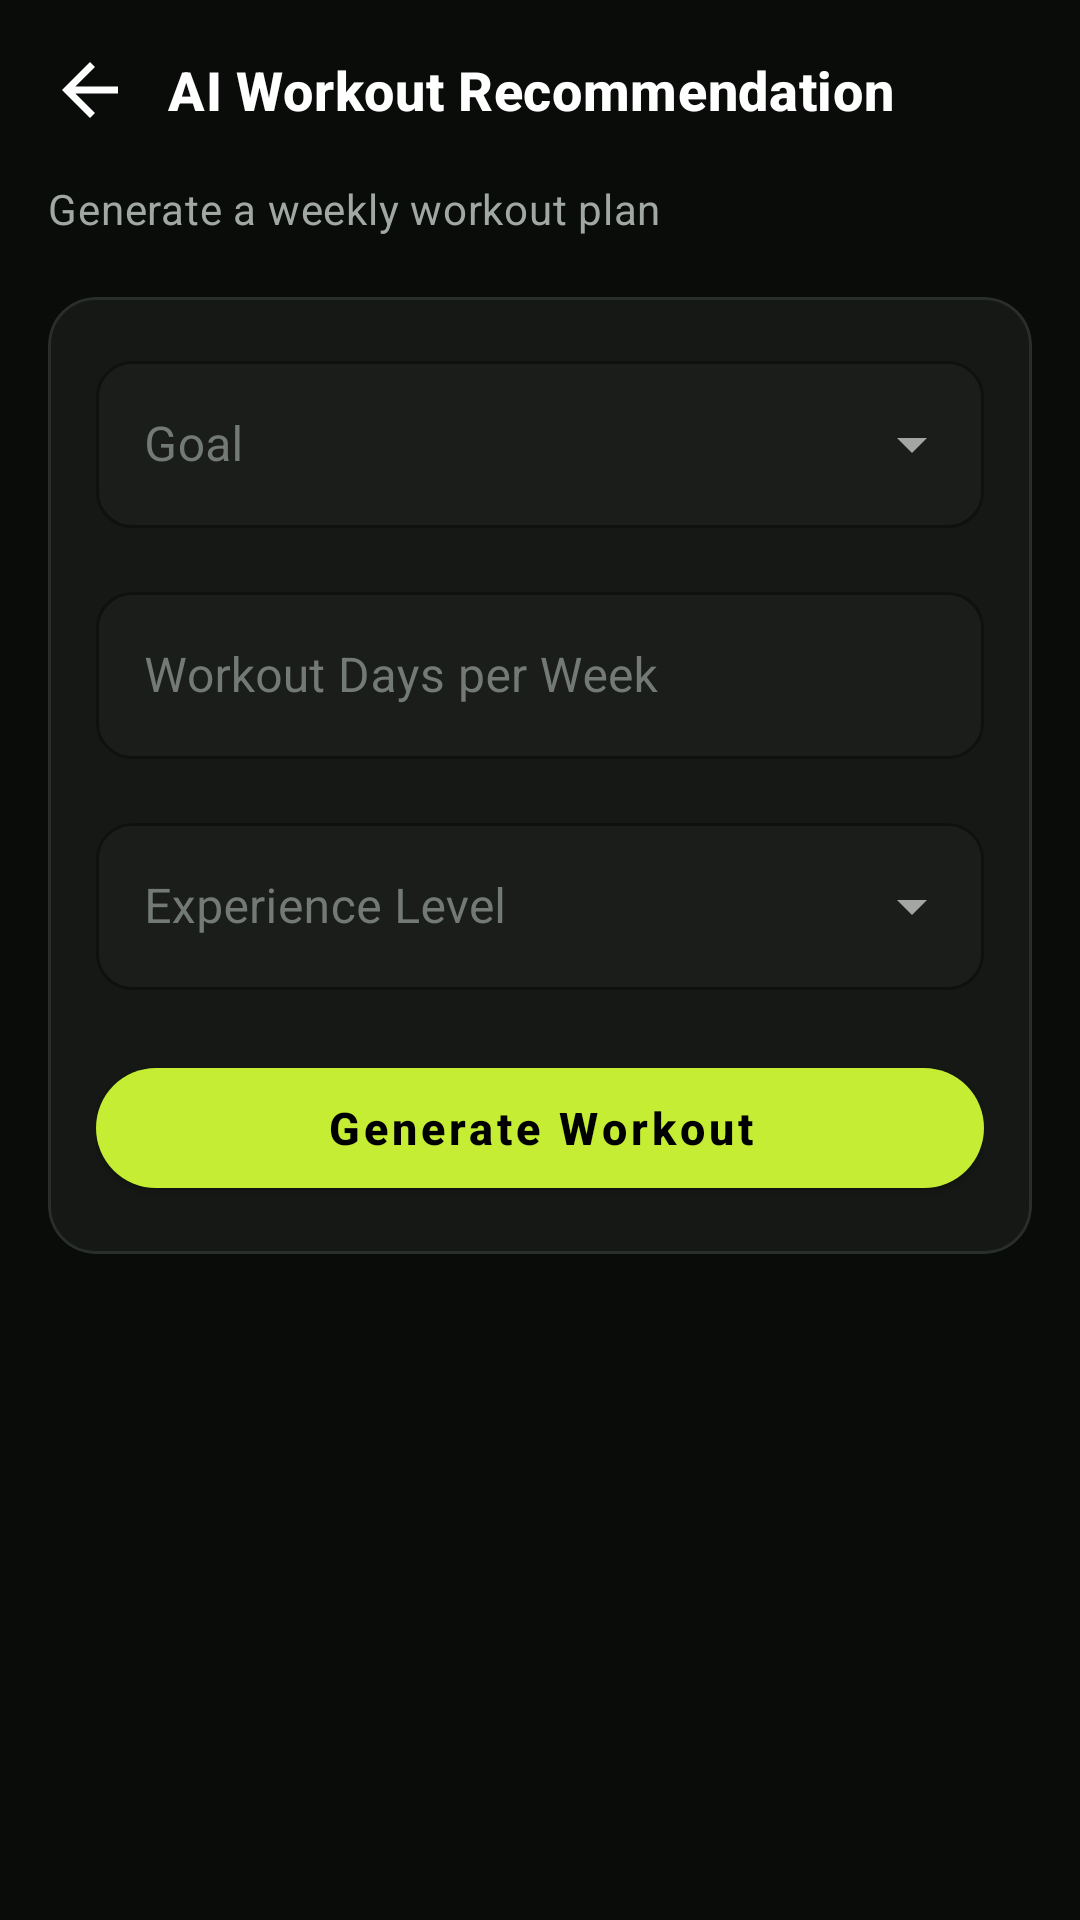

Named icons in this screenshot (1080*1920) and their bounding boxes, (x1, y1, x2, y2):
Back: (62, 62, 118, 118)
